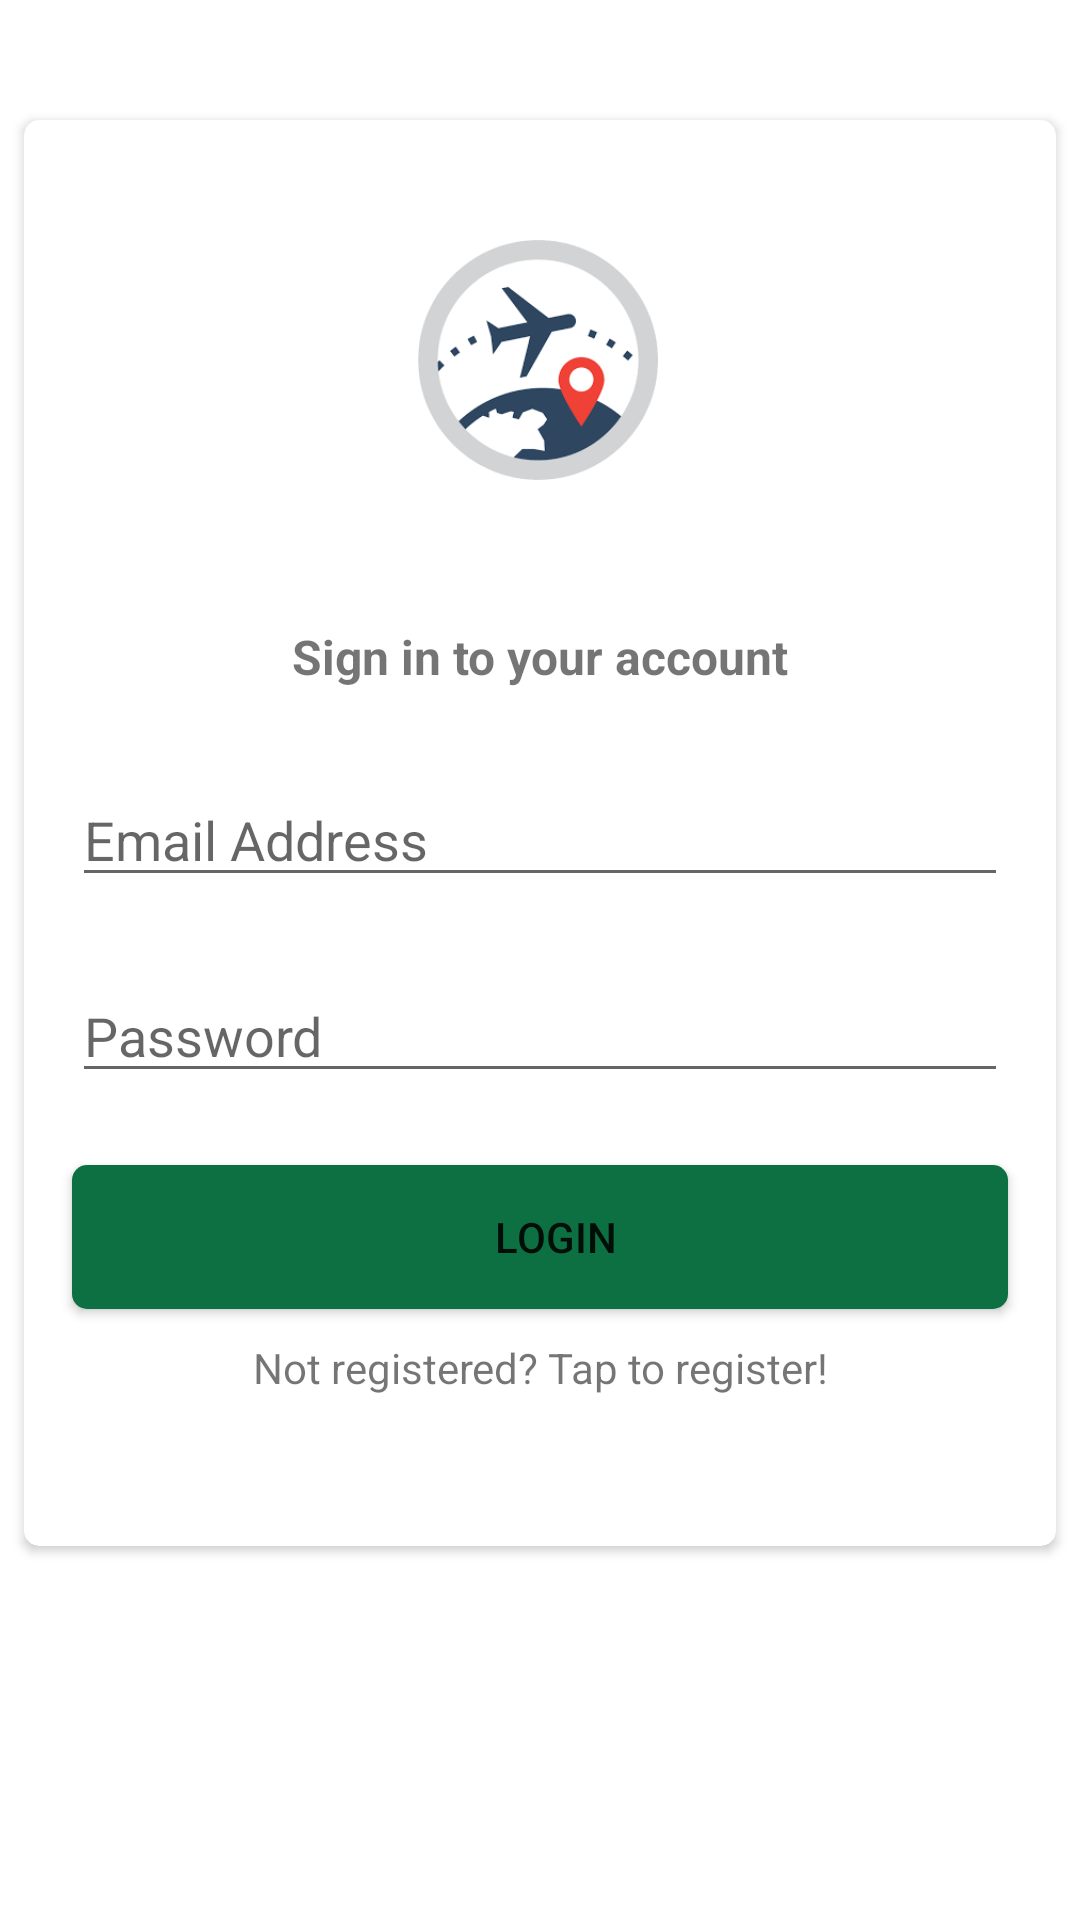

Icon bounding boxes for this 1080px x 1920px phone screenshot, format (x1, y1, x2, y2):
travel: (418, 240, 658, 480)
